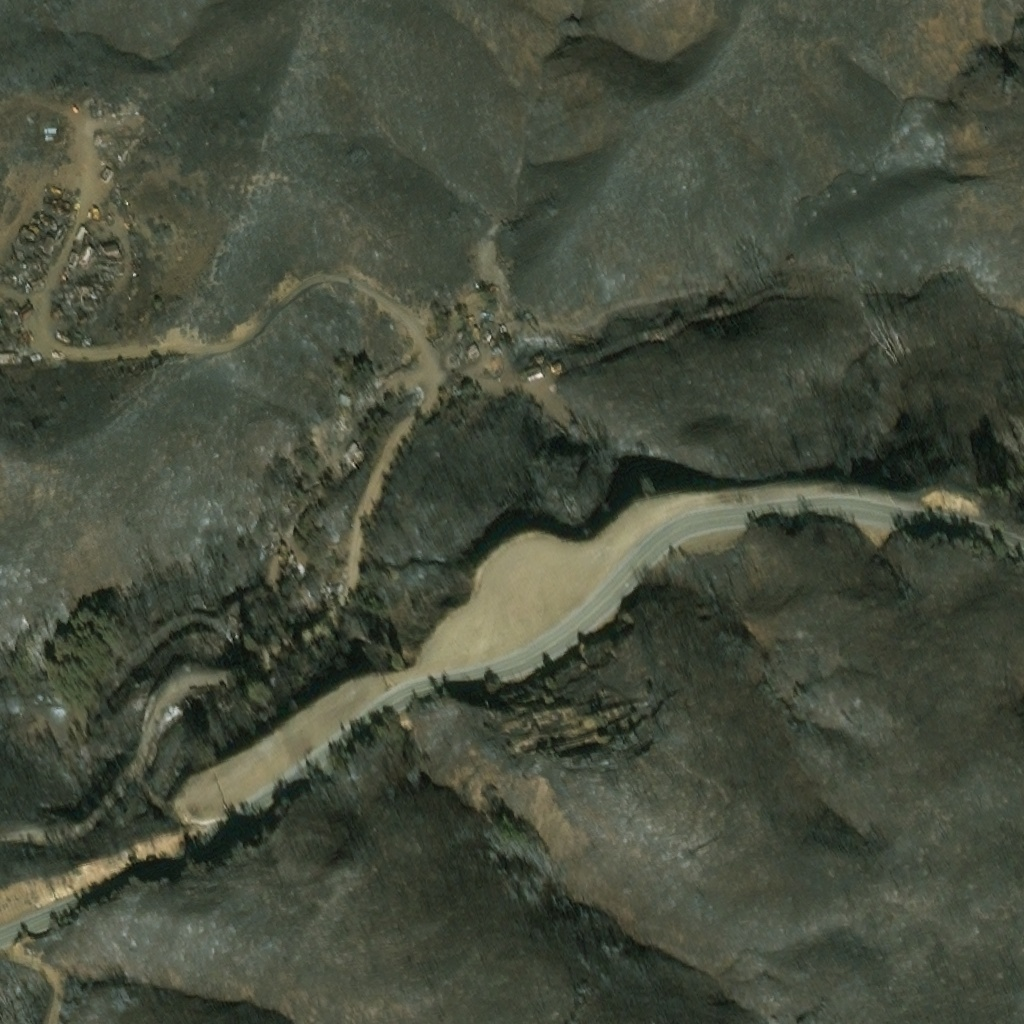0 no-damage: (411, 389, 433, 414), (54, 223, 70, 243), (520, 361, 540, 376), (445, 340, 461, 357), (185, 678, 207, 689), (74, 225, 87, 242), (333, 390, 350, 403), (82, 244, 95, 260), (342, 433, 354, 449), (101, 241, 116, 253), (36, 293, 45, 312), (42, 234, 52, 251), (95, 257, 115, 265), (480, 327, 490, 338), (0, 346, 14, 352), (490, 342, 499, 346)
